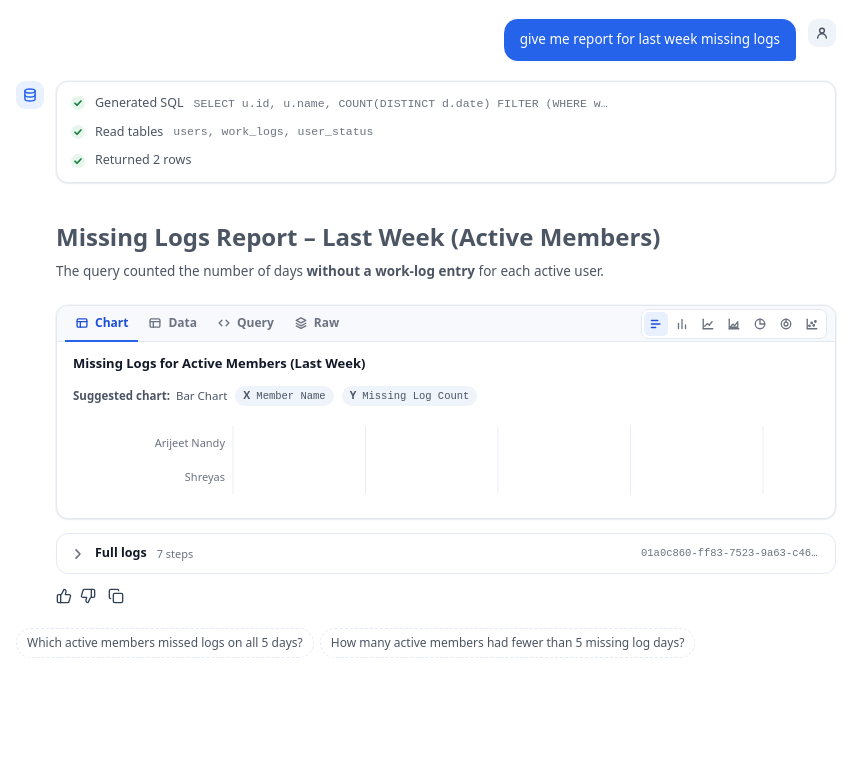
Test: a live NL2SQL answer, field by field › flags a turn the service says it did not answer
What coordinates should you click on to do the following:
click the button "Full logs 7 steps 01a0c860-ff83-7523-9a63-c466e184016b"
I would click on:
 (121, 553)
Its box is [57,534,835,573].
(page scrolled)
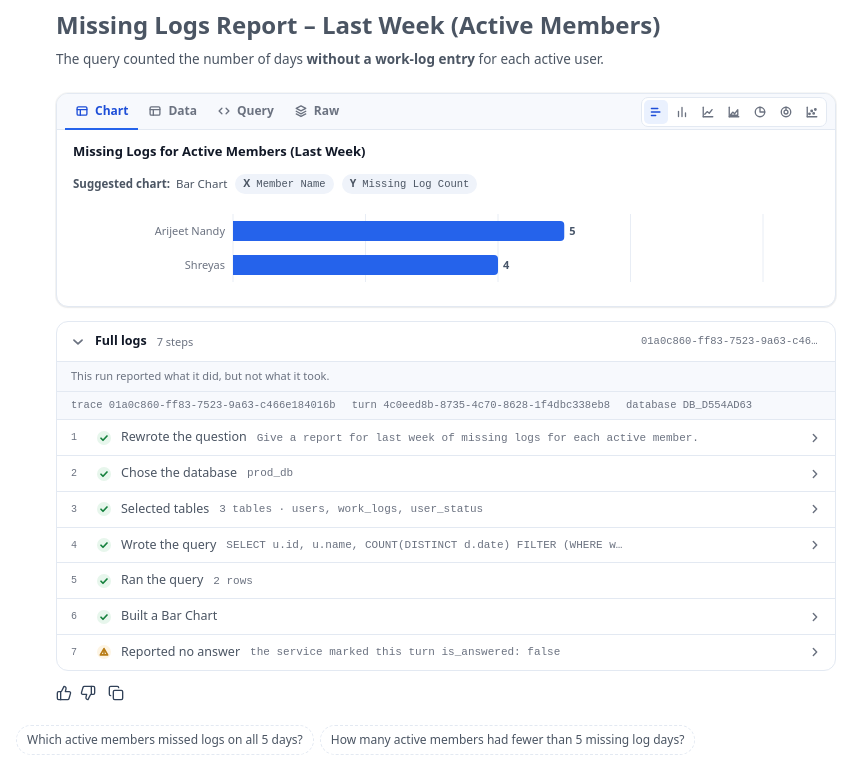
Expected: the text "Reported no answer" is shown, [121,643,240,662]
